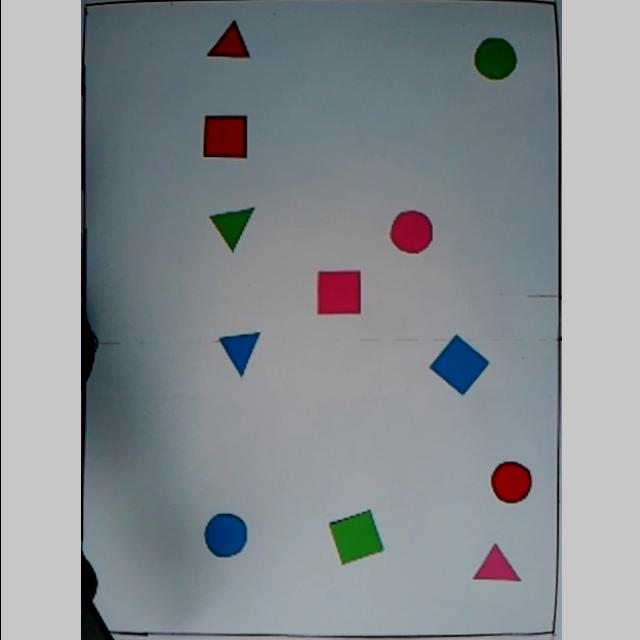blueCircle: (200, 514, 248, 558)
blueSquare: (424, 332, 490, 396)
blueTriangle: (214, 330, 260, 380)
greenCircle: (468, 36, 516, 80)
greenSquare: (326, 508, 384, 566)
greenTriangle: (206, 204, 254, 253)
pinkCircle: (386, 208, 432, 256)
pinkSquare: (312, 269, 360, 317)
pinkTriangle: (470, 543, 522, 585)
redCircle: (486, 460, 532, 506)
redSquare: (199, 114, 247, 160)
redTriangle: (200, 18, 252, 62)
